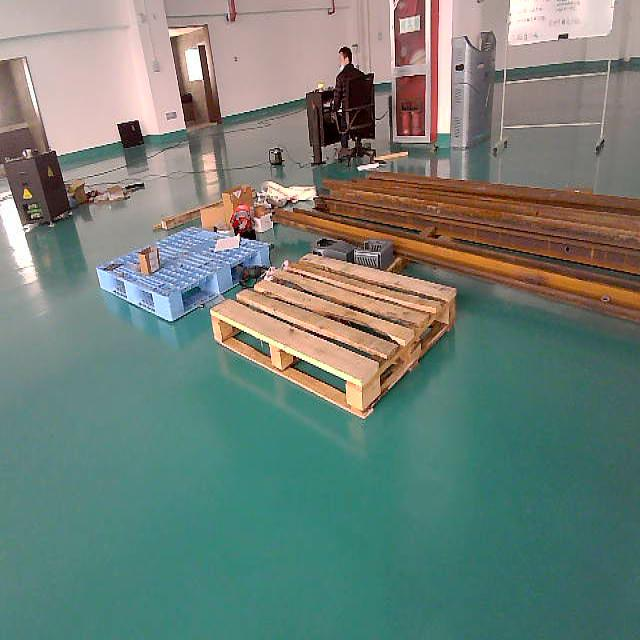euro: (213, 255, 459, 420)
